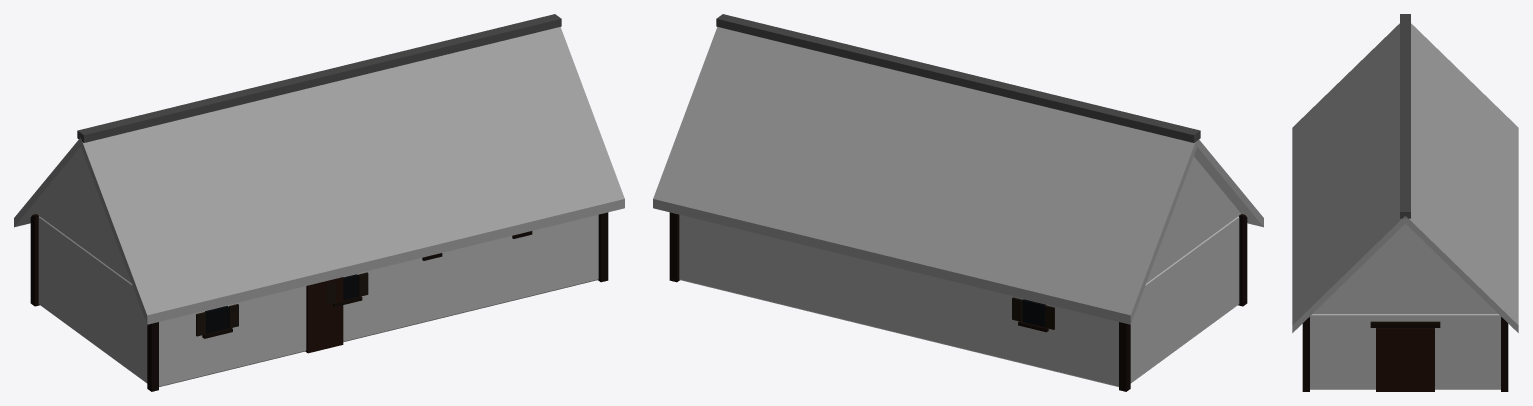
File: home_long_g.fbx
3 renders of one model, left to right at view 1: azimuth 30°, elevation 25°; view 2: azimuth 150°, elevation 25°; view 3: azimuth 270°, elevation 25°, orthographic. The views are drawn at different scales.
Parts seen in each view (by area): view 1: home_long_g; view 2: home_long_g; view 3: home_long_g.
Part boxes in pixels (x1,y1,x2,y2): home_long_g: [14, 14, 624, 391]; home_long_g: [653, 14, 1263, 391]; home_long_g: [1292, 14, 1518, 391].
Bounding box in the file's own units: 12.76 × 5.55 × 6.16.
